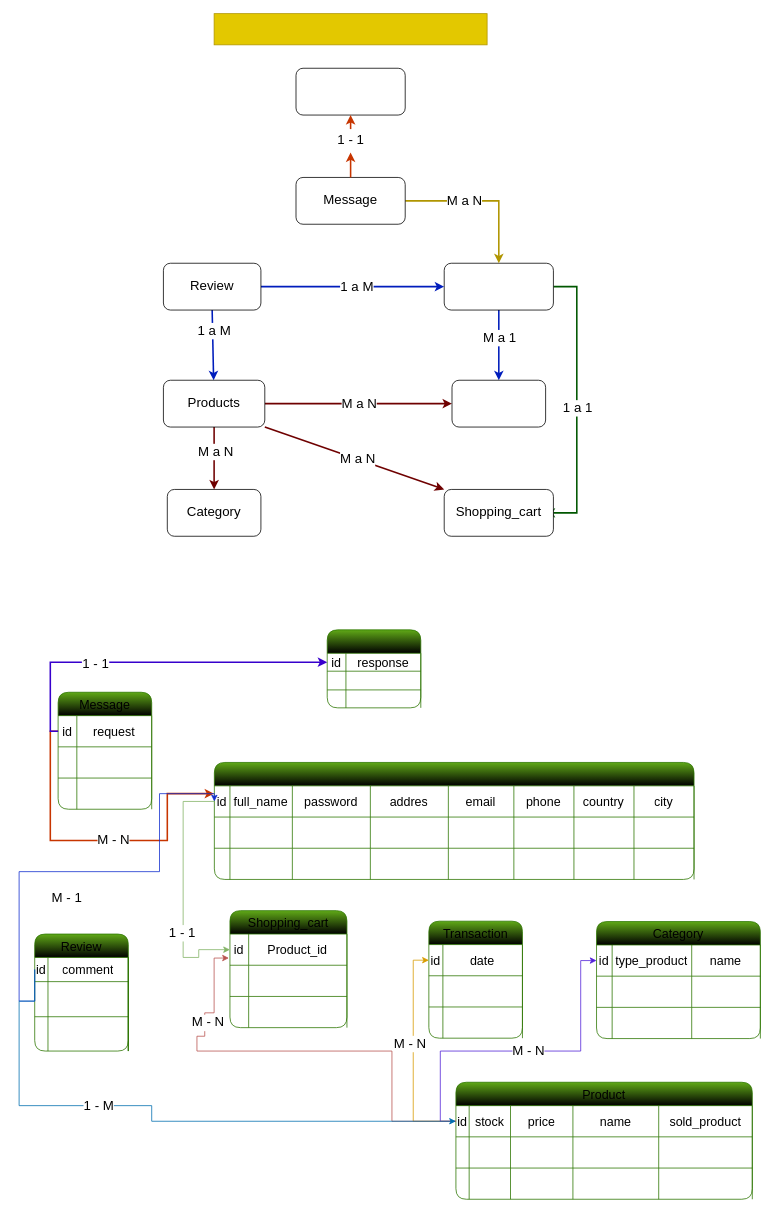
This 775x1213 diagram has some shape labels left out. Here are the shapes that lost their labels. From the top down, the box of each, then its label:
(213, 13, 487, 45): ESQUEMA DE RELACIONES
(295, 67, 405, 115): Users Admin
(443, 262, 553, 310): Users
(451, 379, 546, 427): Transactions
(326, 629, 421, 708): User_Admin
(214, 762, 694, 879): User
